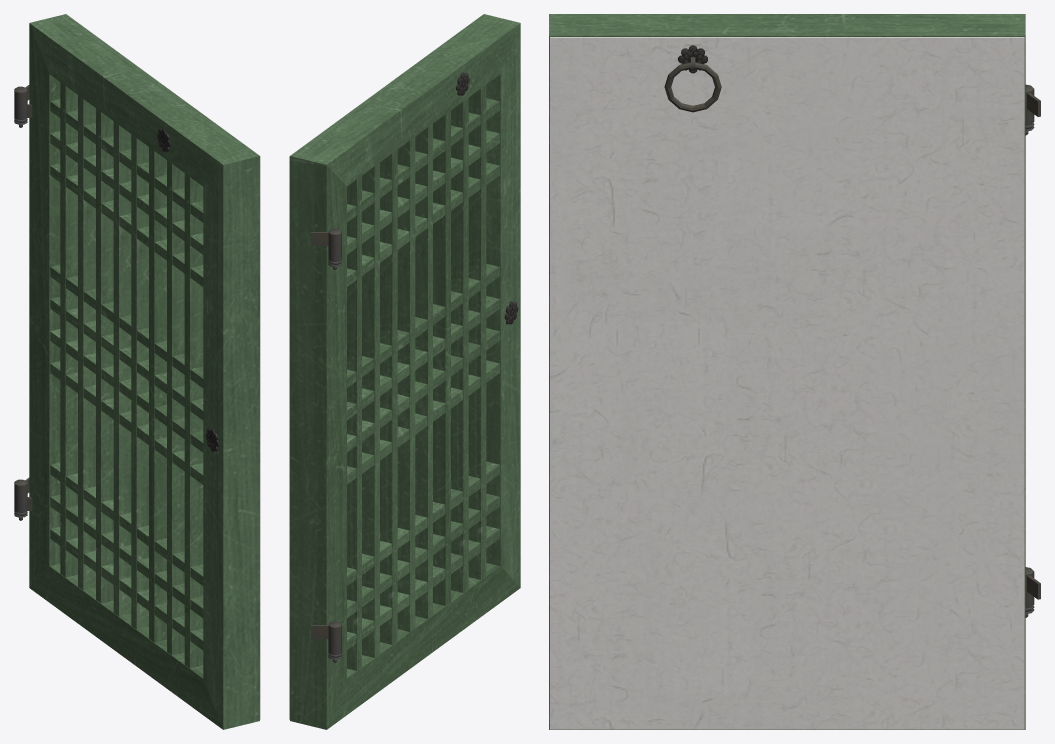
Rendered from SM_Door01A.fbx.
The picture shows the model from 3 angles, left to right: view 1: azimuth 30°, elevation 25°; view 2: azimuth 150°, elevation 25°; view 3: azimuth 270°, elevation 25°; orthographic projection. The views are drawn at different scales.
Visible parts, largest first — view 1: SM_Door01A; view 2: SM_Door01A; view 3: SM_Door01A.
Boxes of the visible parts, <box> form: SM_Door01A: <box>14,14,260,729</box>; SM_Door01A: <box>289,14,520,729</box>; SM_Door01A: <box>549,14,1040,729</box>.
Bounding box in the file's own units: 9.63 × 50.6 × 78.76.
Materials: 1 (1 with a texture image).
